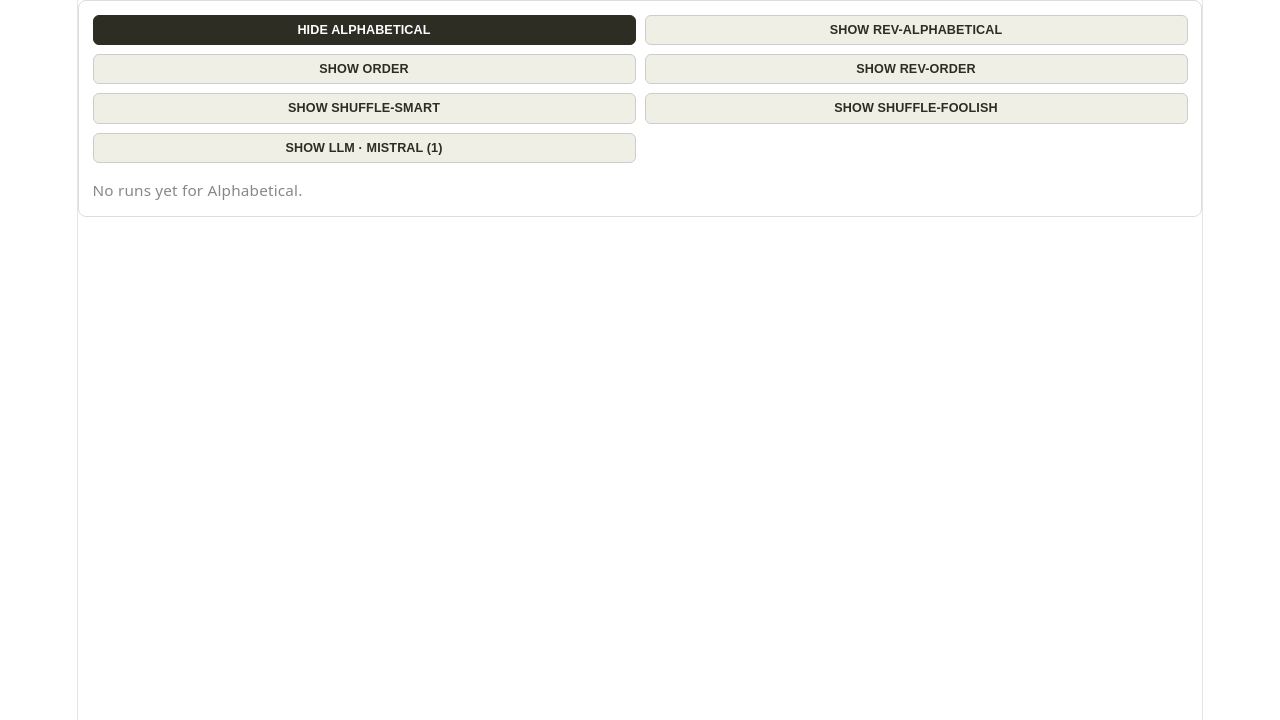
Scenario: GuessSequencePanel Component › opens the guess sequence for a newly-supported provider
Click the button "Show LLM · Mistral (1)": (364, 148) [92, 133, 636, 163]
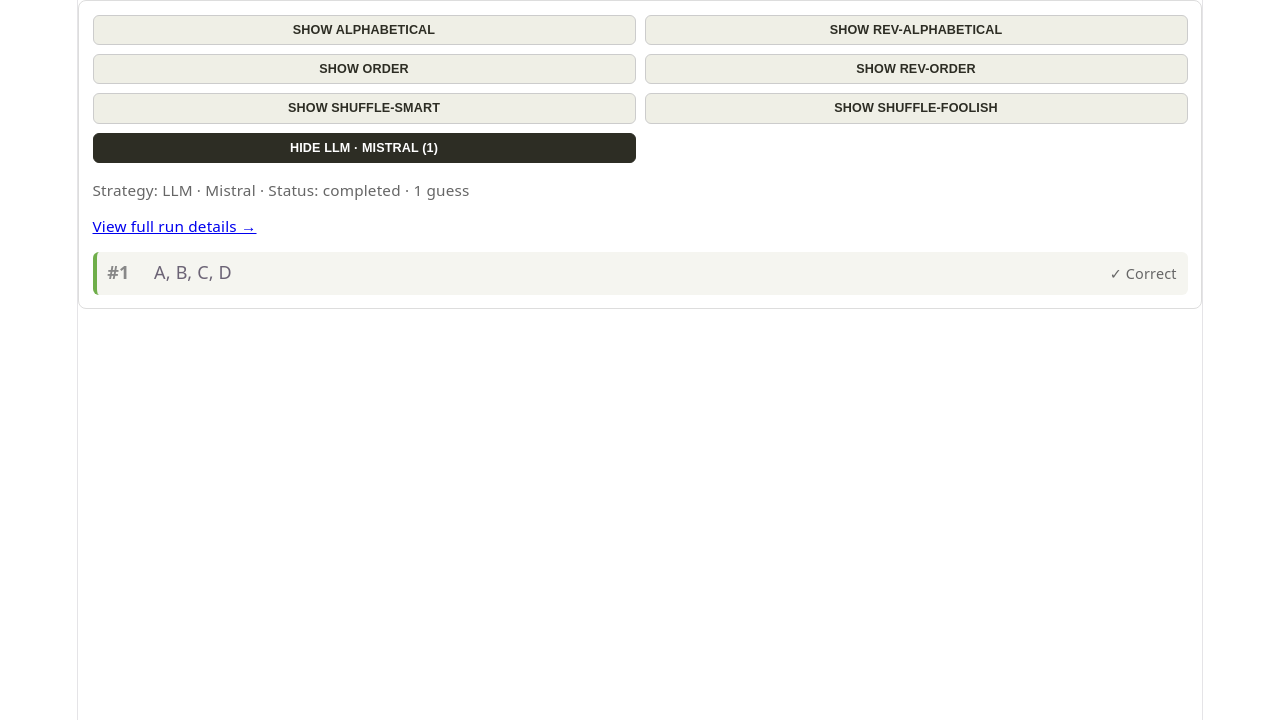
Check: the text "Strategy: LLM · Mistral · Status: completed · 1 guess" is shown, box [92, 180, 470, 200]
